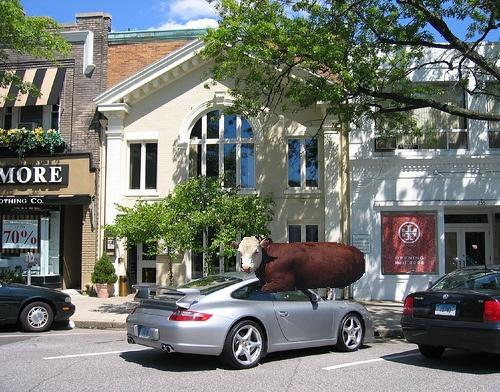tampered: (229, 237, 365, 294)
